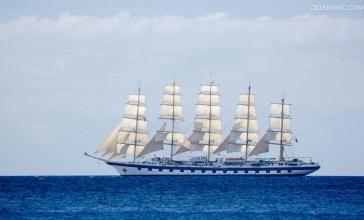fanchuan: (87, 76, 320, 182)
